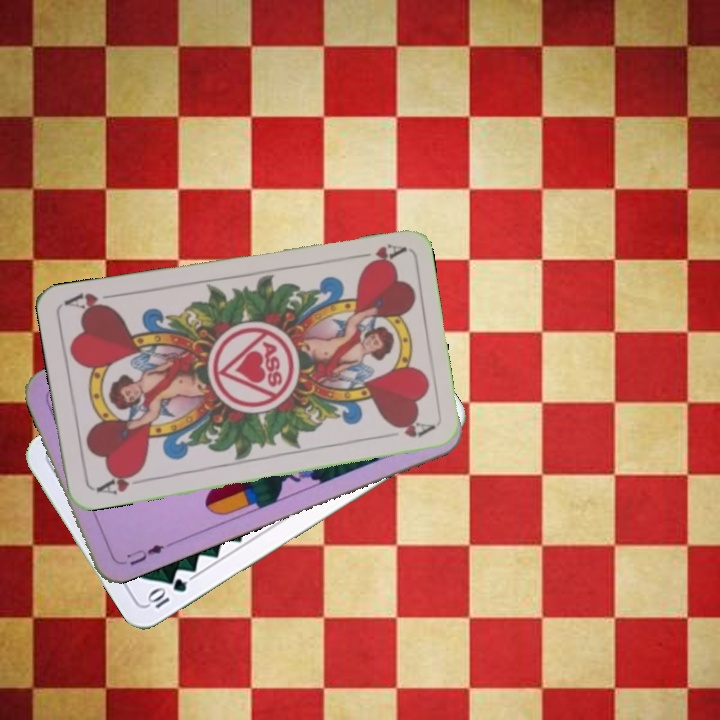EU: (116, 538, 172, 568)
G10: (143, 574, 190, 611)
HA: (347, 239, 406, 270), (92, 466, 149, 497)
